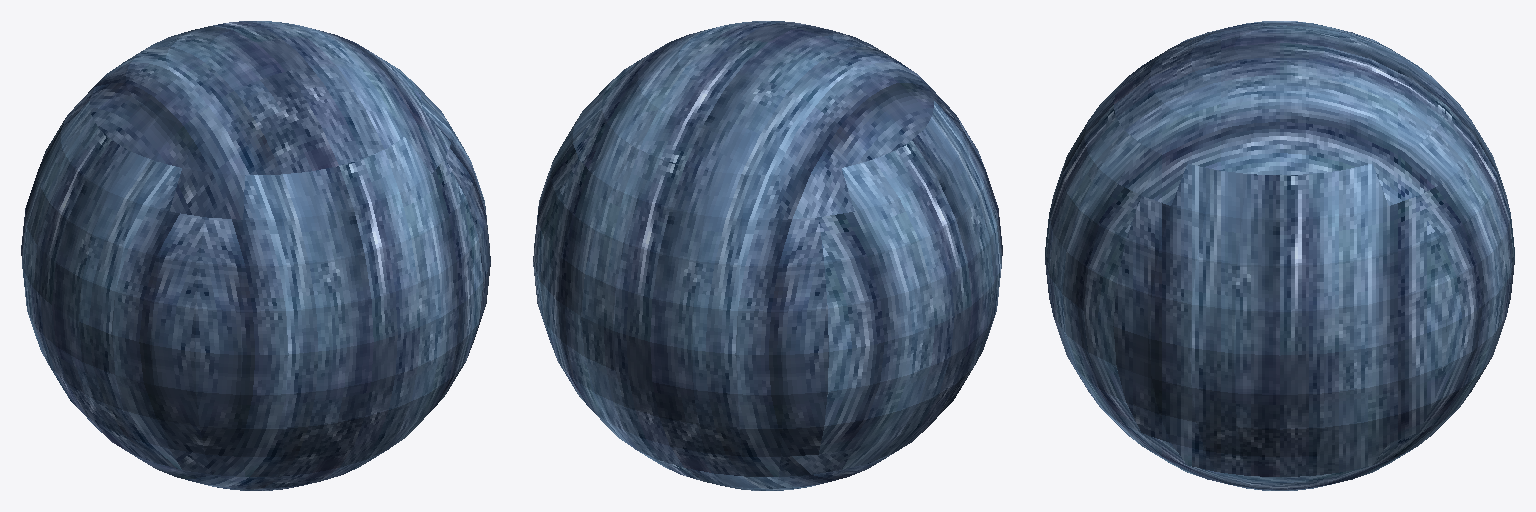
The picture shows the model from 3 angles: view 1: azimuth 30°, elevation 25°; view 2: azimuth 150°, elevation 25°; view 3: azimuth 270°, elevation 25°; orthographic projection.
Parts seen in each view (by area): view 1: wood_particle; view 2: wood_particle; view 3: wood_particle.
Part boxes in pixels (x1,y1,x2,y2): wood_particle: (21,21,490,490); wood_particle: (533,21,1002,490); wood_particle: (1045,21,1514,490).
Size of the model in its own units: 2 by 2 by 2.
1 materials, 1 textured.